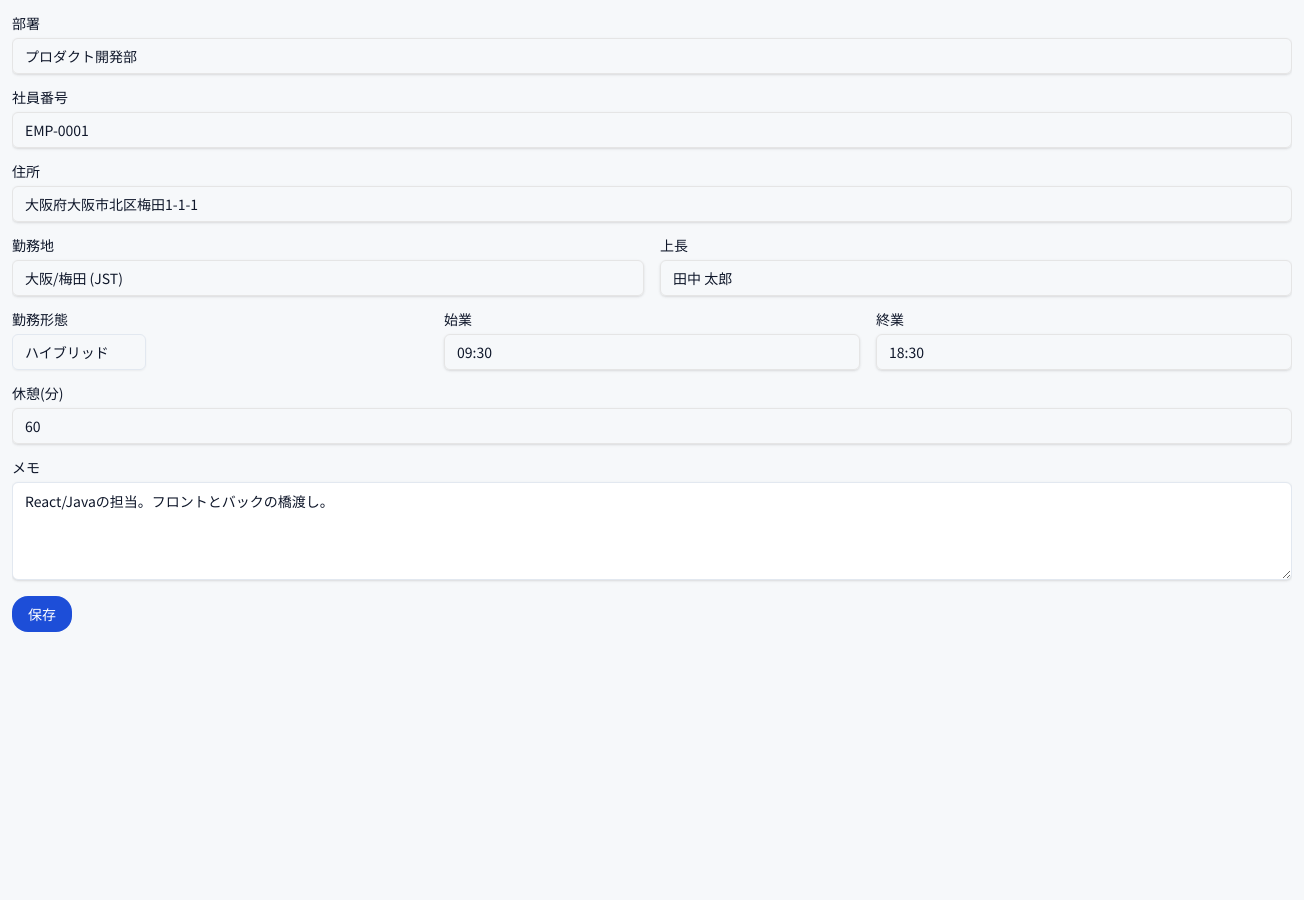
Test: ProfileEditForm › 送信中はボタンを無効化しスピナーを表示する
The image size is (1304, 900).
Click the button "保存": (42, 614) x1=12 y1=596 x2=72 y2=632
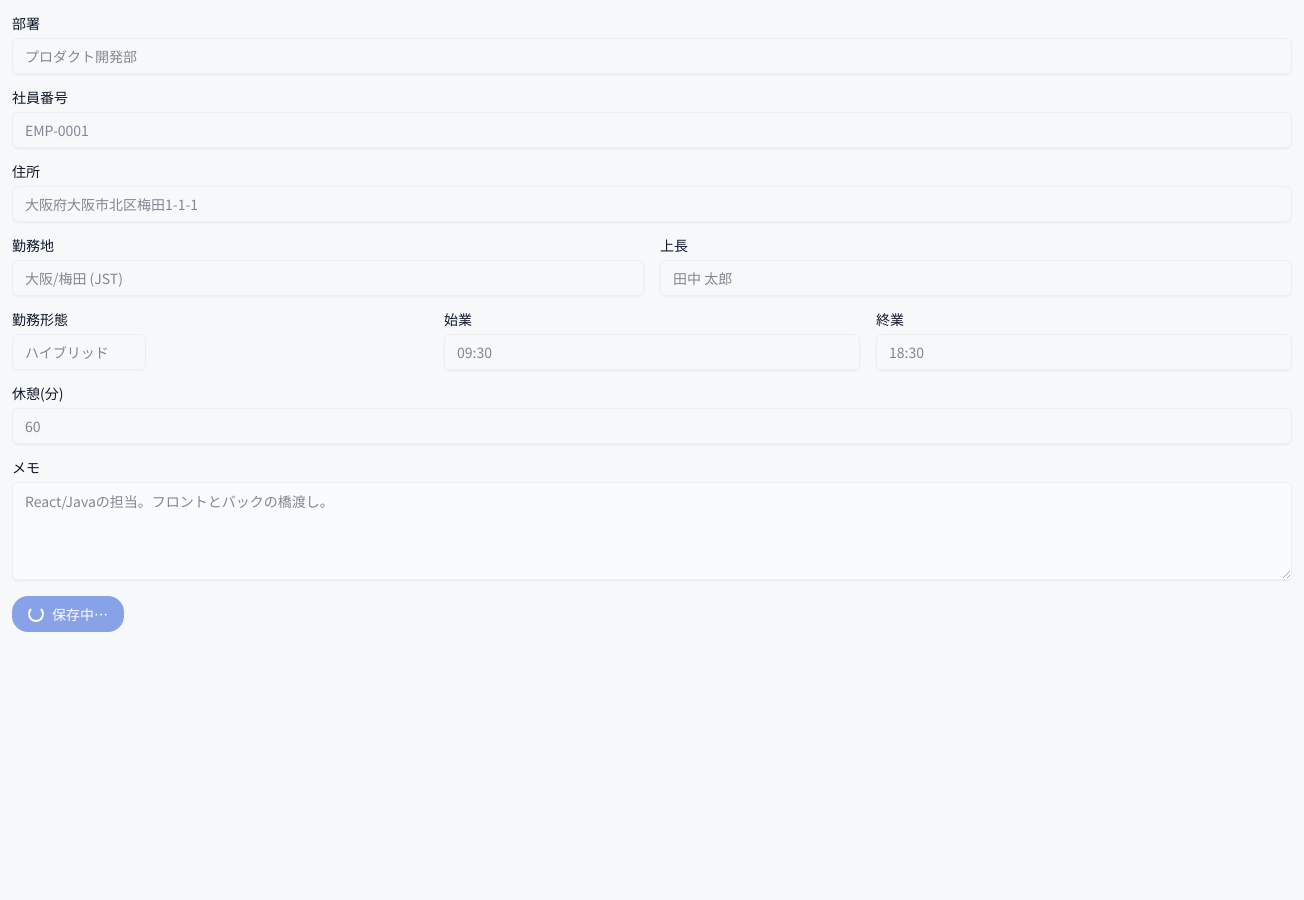
Result: the element with test id "spinner" is shown at x1=28 y1=606 x2=44 y2=622
Result: the button "保存中…" is disabled at x1=12 y1=596 x2=124 y2=632
Result: the button "保存中…" is shown at x1=12 y1=596 x2=124 y2=632
